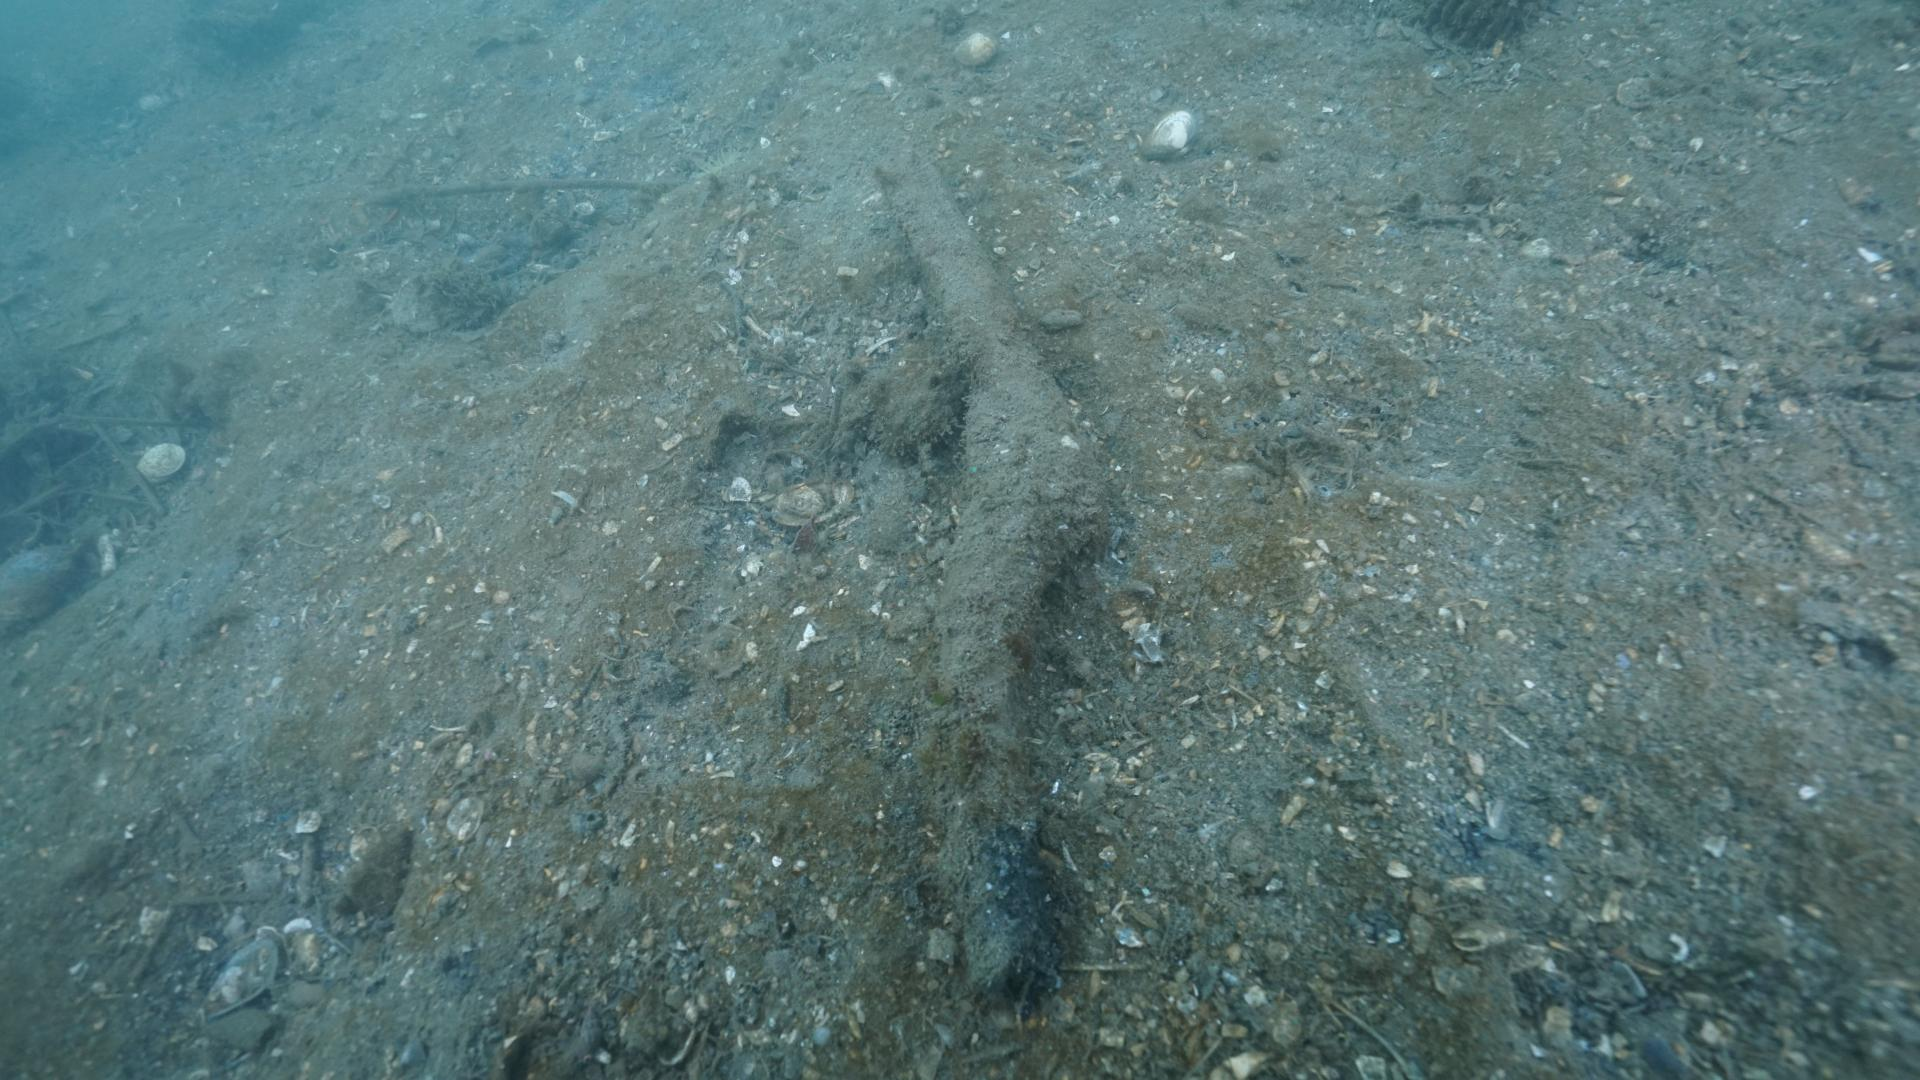wood: (874, 146, 1109, 1004)
